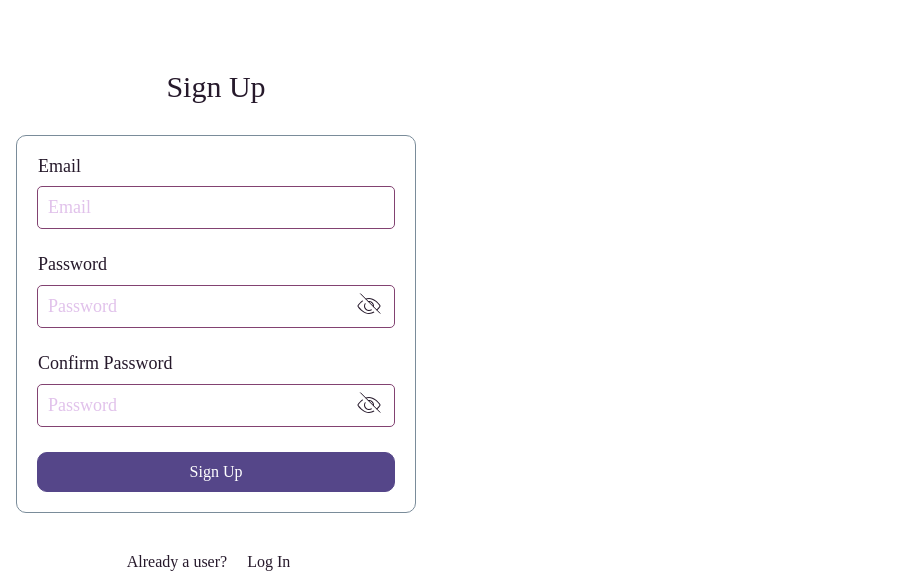
Test: AuthForm Component › handles form submissions for the scenario where a user already exists
This screenshot has width=899, height=588.
In the field labelled "Email": x=216, y=208 [38,187,394,228], type "existing@example.com"
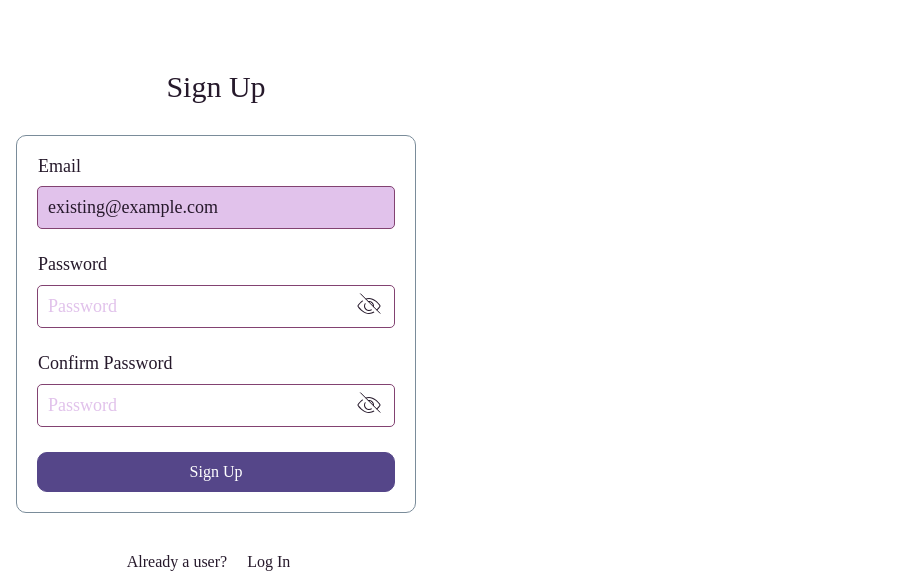
In the password field labelled "Password": x=191, y=306 [38,286,344,327], type "password123!"
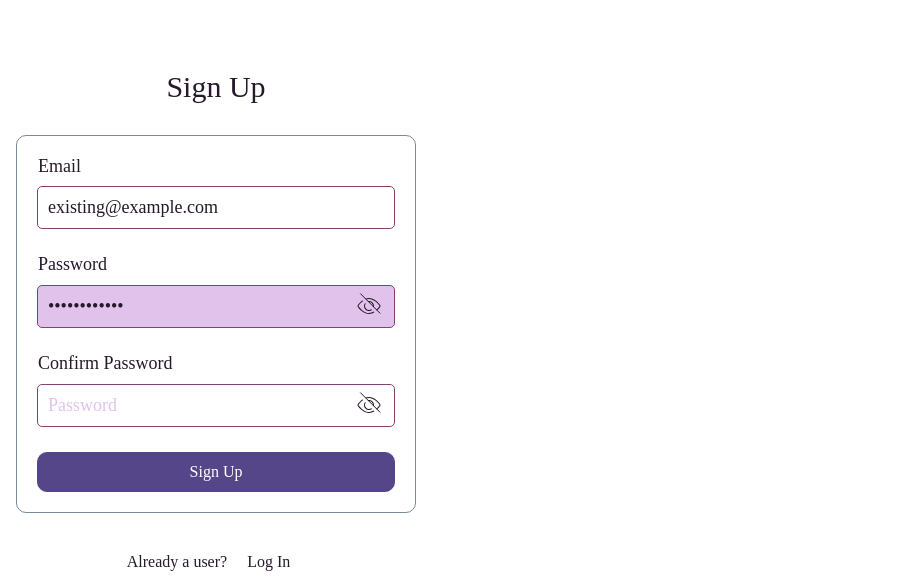
In the password field labelled "Confirm Password": x=191, y=405 [38,385,344,426], type "password123!"
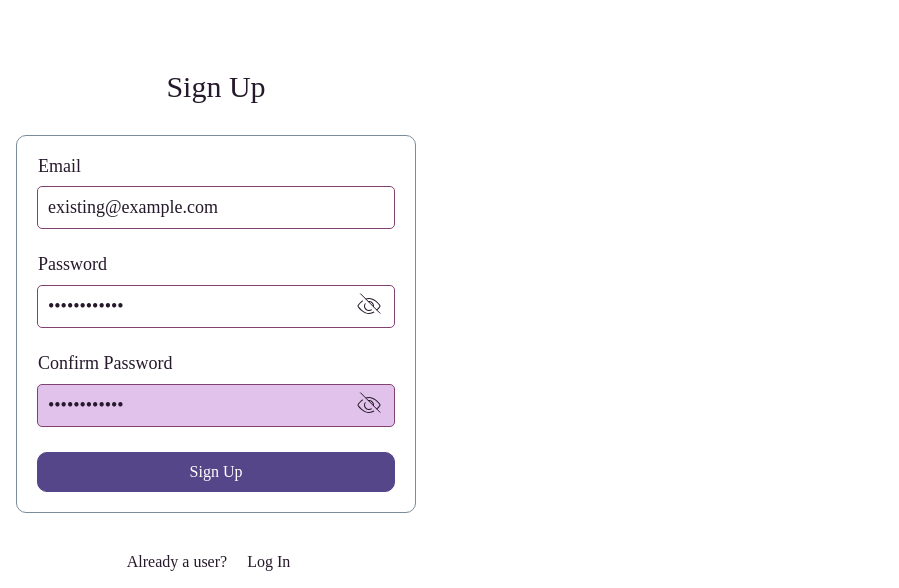
Click the button "Sign Up": x=216, y=472 [37,452,395,492]
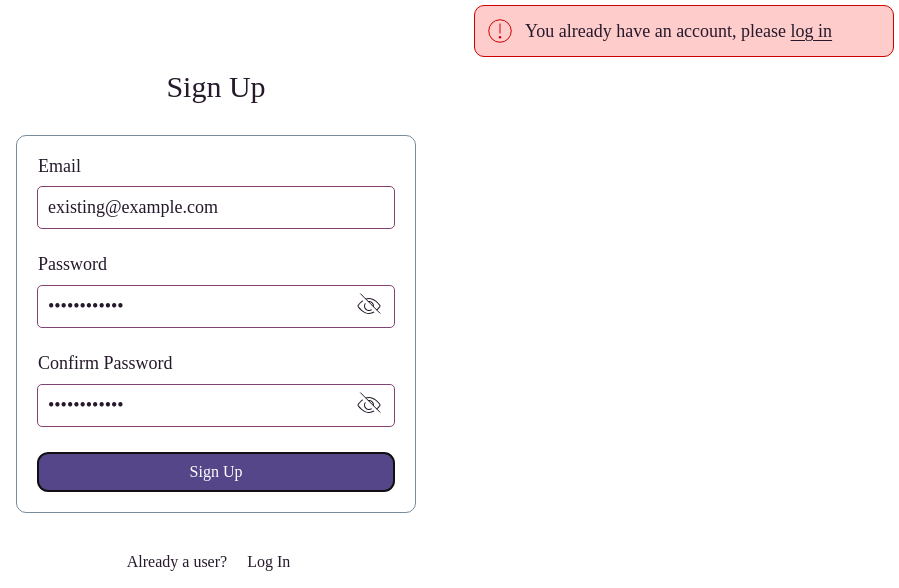
Expected: the picture with alt text "notification" is shown, [485,16,515,46]
Expected: the text "You already have an account, please" is shown, [525,21,791,41]
